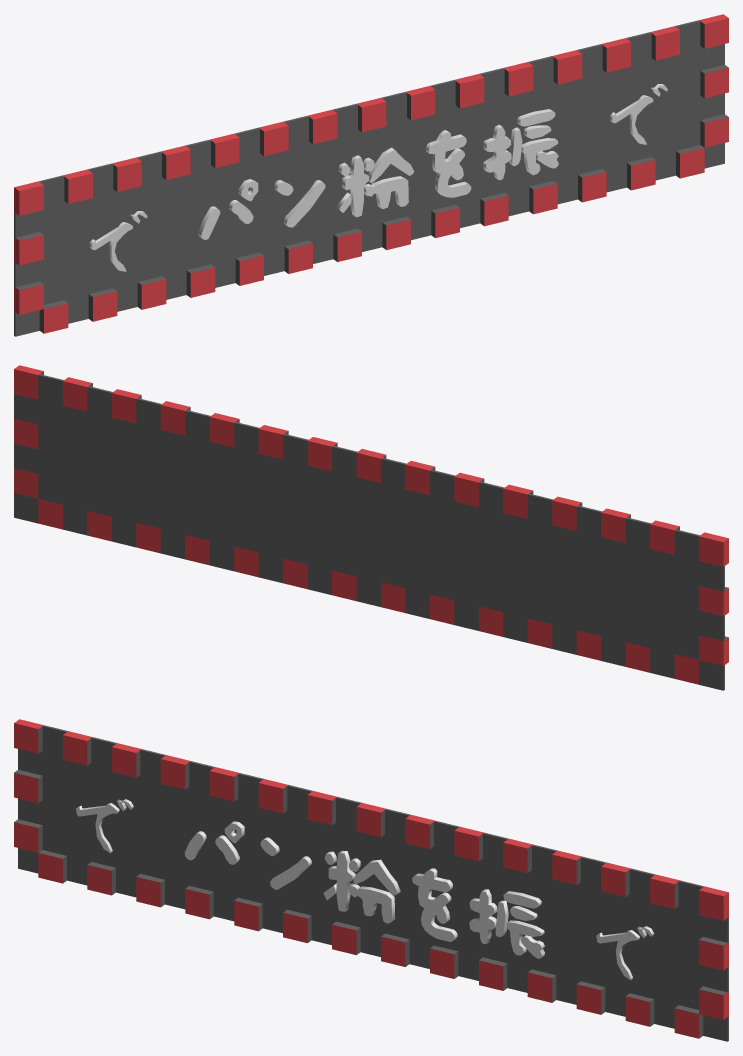
The model's file is BilboardSix.fbx.
The picture shows the model from 3 angles, top to bottom: view 1: azimuth 30°, elevation 25°; view 2: azimuth 150°, elevation 25°; view 3: azimuth 330°, elevation 25°; orthographic projection.
Visible parts, largest first — view 1: Plane.027, Text.025, Text.027, Text.026; view 2: Plane.027; view 3: Plane.027, Text.025, Text.026, Text.027.
Boxes of the visible parts, box(x1,y1,x2,y2) form: Plane.027: box(14, 14, 728, 336); Text.025: box(198, 109, 558, 239); Text.027: box(610, 84, 667, 144); Text.026: box(89, 211, 147, 271); Plane.027: box(14, 365, 728, 690); Plane.027: box(14, 719, 728, 1041); Text.025: box(184, 821, 544, 958); Text.026: box(76, 799, 133, 853); Text.027: box(596, 926, 654, 980).
Bounding box in the file's own units: 30 × 6 × 0.8128.
